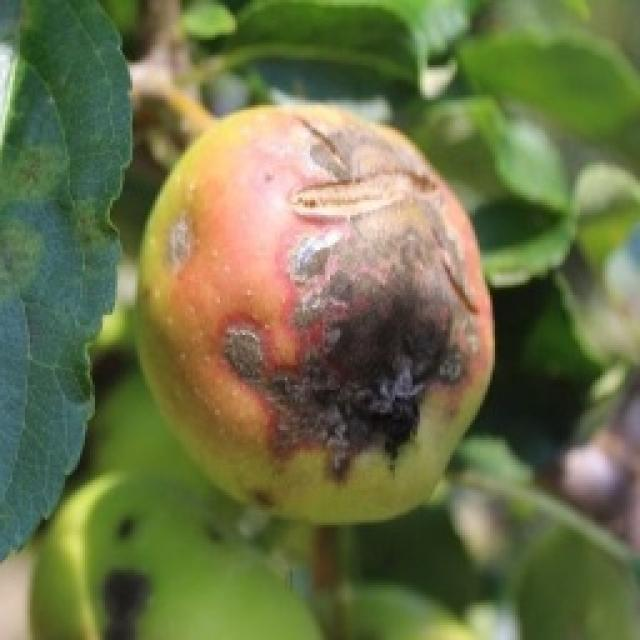defective: (132, 98, 498, 525)
